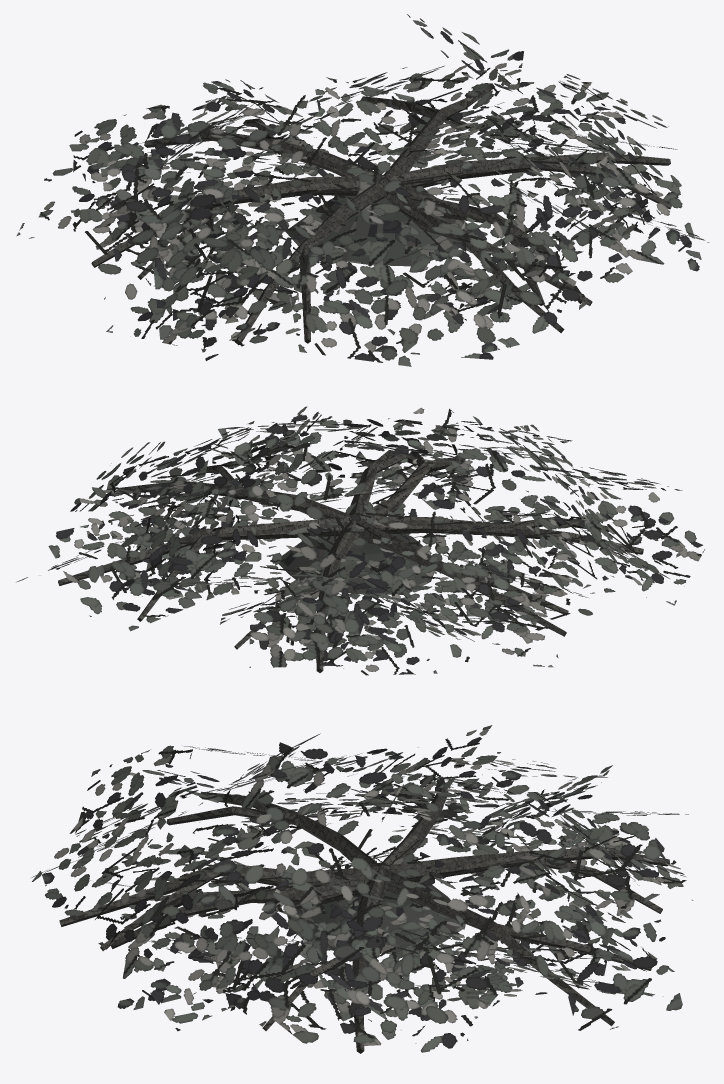
The model's file is CrePlant03a.glb.
3 renders of one model, top to bottom at view 1: azimuth 30°, elevation 25°; view 2: azimuth 150°, elevation 25°; view 3: azimuth 270°, elevation 25°, orthographic. The views are drawn at different scales.
Visible parts, largest first — view 1: p_core; view 2: p_core; view 3: p_core.
Part boxes in pixels (x1,y1,x2,y2): p_core: (16,14,709,366); p_core: (16,406,704,675); p_core: (31,725,692,1053).
Bounding box in the file's own units: 3.07 × 0.48 × 2.9.
3 materials, 3 textured.
